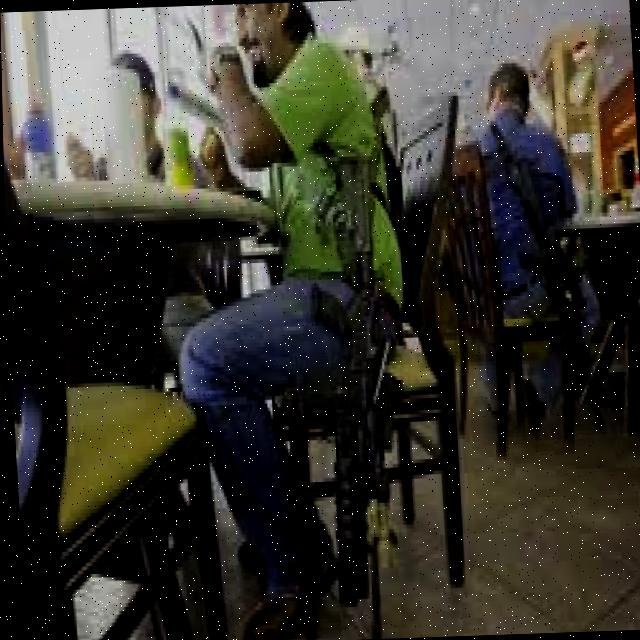firearm: (277, 148, 396, 612), (512, 190, 605, 434)
